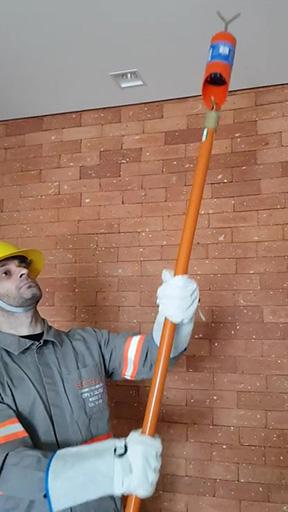Detector_Tensao_Contato: (201, 11, 241, 112)
Vara_Manobra: (124, 111, 222, 512)
